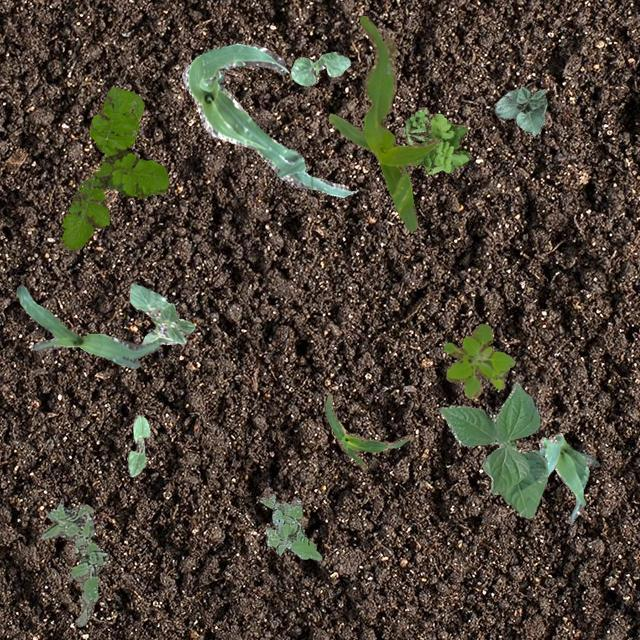crop: (180, 42, 357, 196), (328, 14, 438, 230), (438, 382, 546, 518), (16, 284, 158, 368), (324, 394, 412, 468), (538, 432, 598, 522), (128, 282, 194, 344), (494, 84, 546, 136), (290, 50, 350, 86), (126, 414, 148, 476)
weed: (58, 85, 168, 252), (41, 502, 108, 626), (442, 322, 514, 398), (260, 492, 320, 560), (410, 112, 468, 172), (402, 108, 432, 144)
